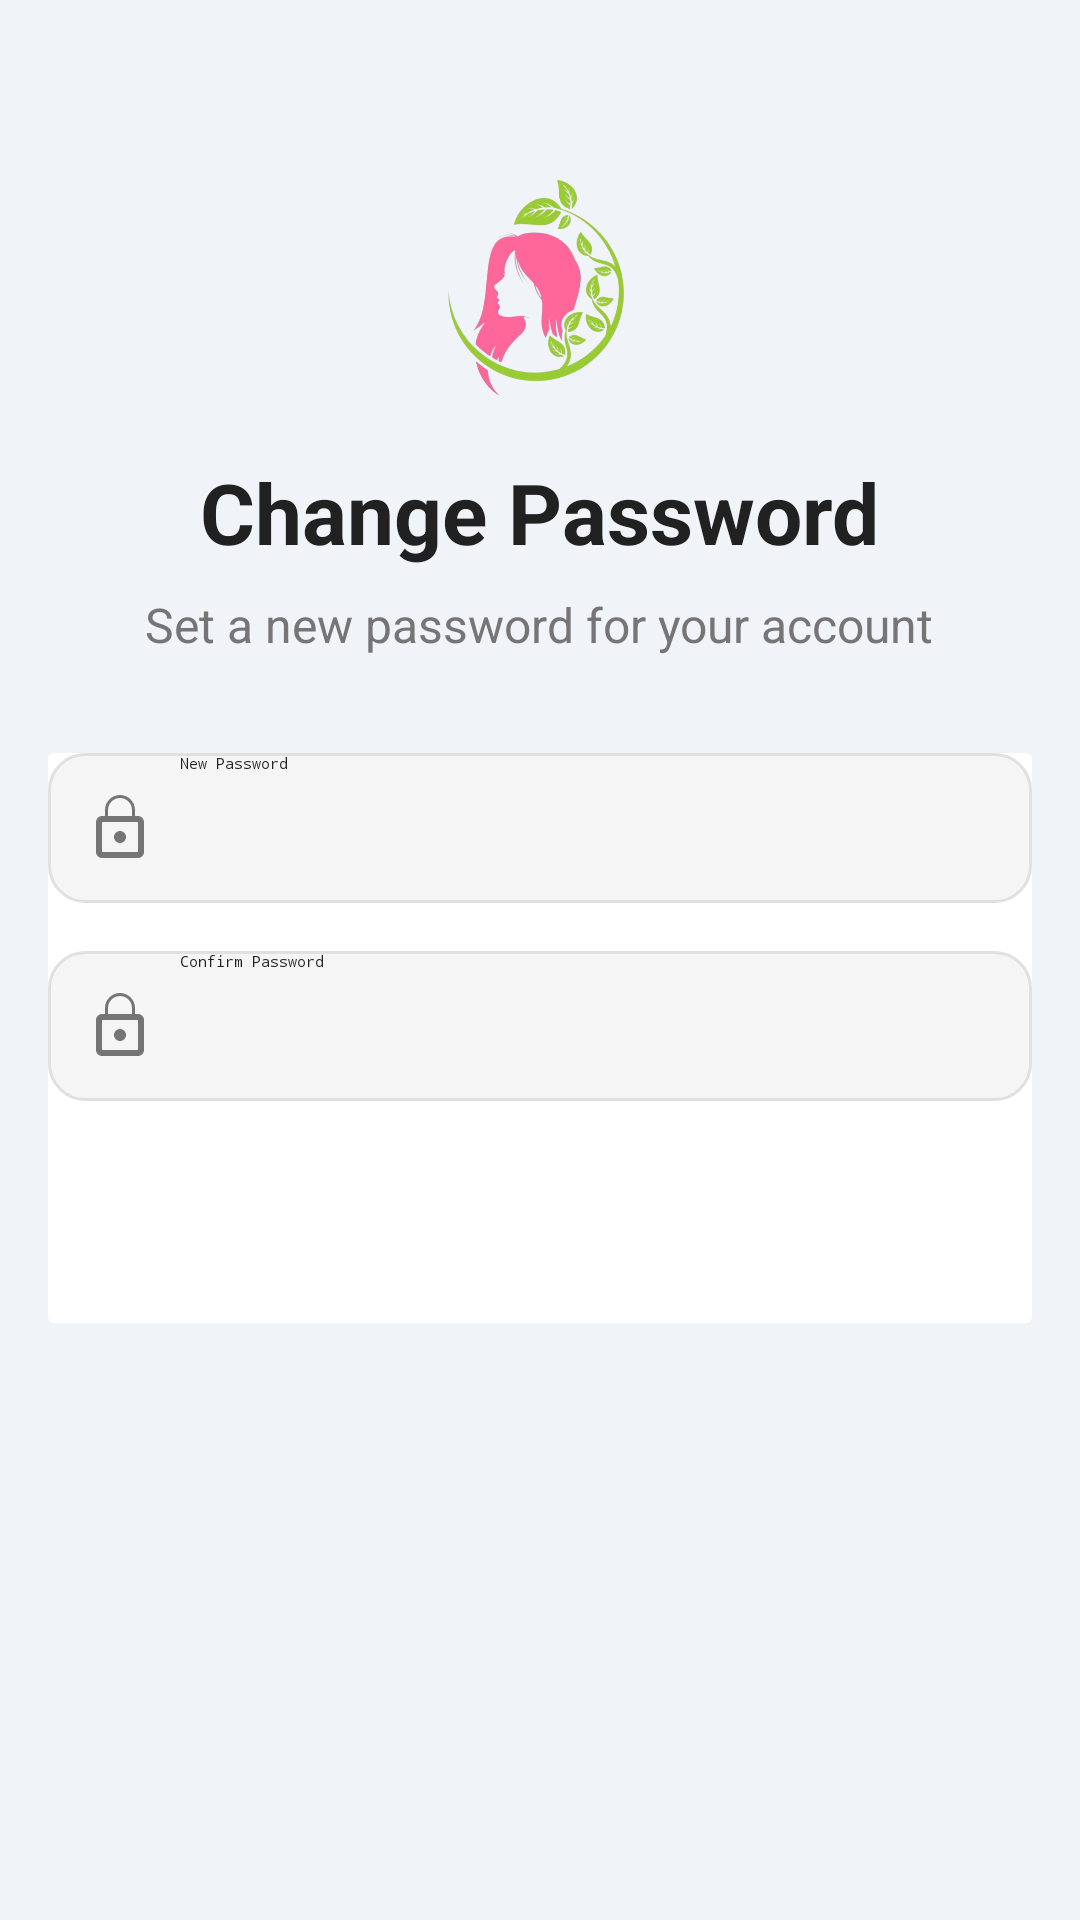

Where icons sit on this 1080px×1920px app screen, as (x1, y1, x2, y2):
lock: (96, 795, 144, 858), (96, 993, 144, 1056)
